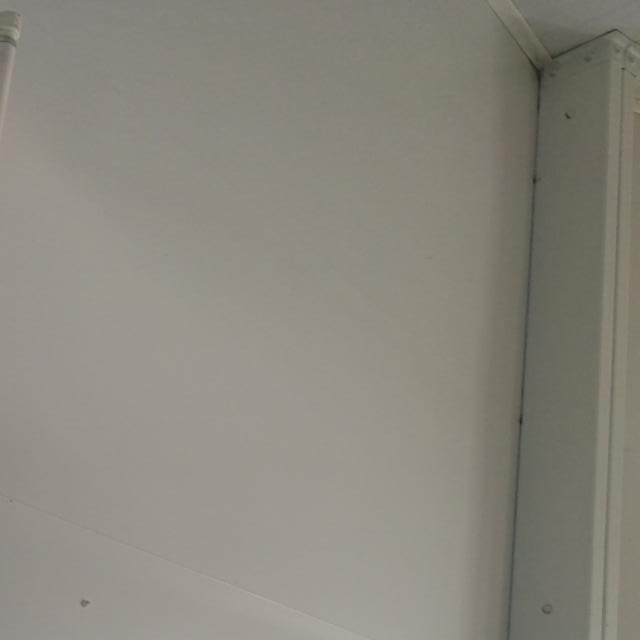fluorescent tube: (0, 0, 104, 640)
